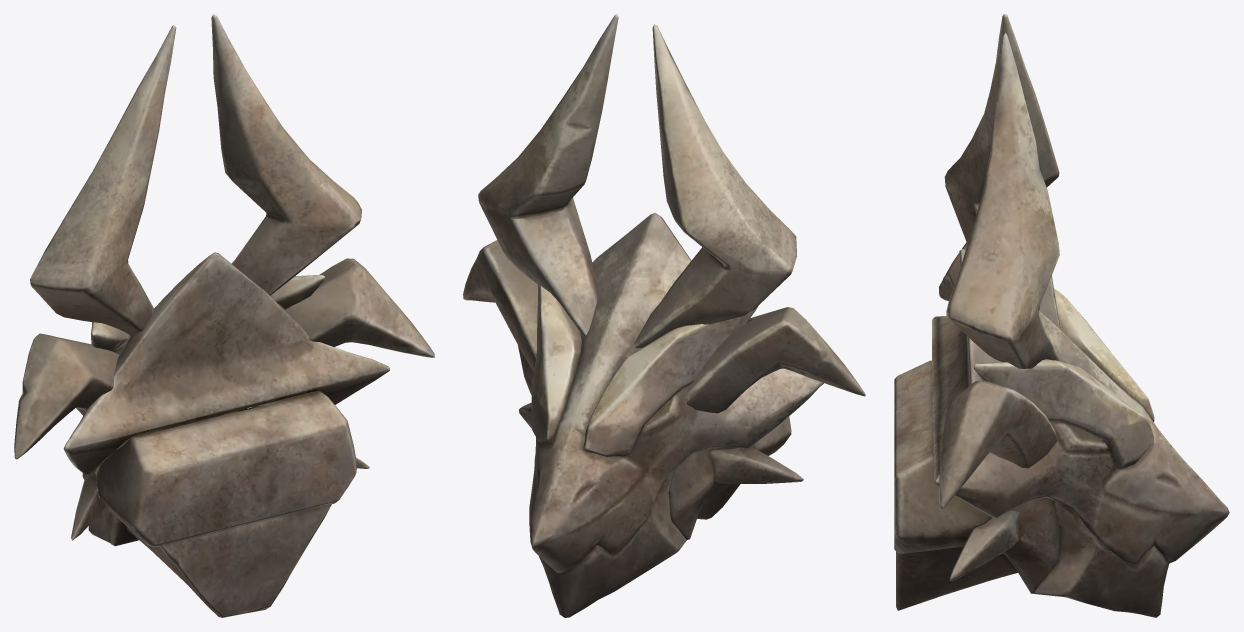
3 renders of one model, left to right at view 1: azimuth 30°, elevation 25°; view 2: azimuth 150°, elevation 25°; view 3: azimuth 270°, elevation 25°, orthographic. The views are drawn at different scales.
Parts seen in each view (by area): view 1: SM_Dec_Dragonkin_Wall_Face_01v6_LOD0; view 2: SM_Dec_Dragonkin_Wall_Face_01v6_LOD0; view 3: SM_Dec_Dragonkin_Wall_Face_01v6_LOD0.
Part boxes in pixels (bbox=[...]): SM_Dec_Dragonkin_Wall_Face_01v6_LOD0: bbox=[14, 14, 434, 617]; SM_Dec_Dragonkin_Wall_Face_01v6_LOD0: bbox=[463, 14, 865, 617]; SM_Dec_Dragonkin_Wall_Face_01v6_LOD0: bbox=[894, 14, 1229, 617].
Size of the model in its own units: 1.42 by 1.86 by 0.9503.
Materials: 1 (1 with a texture image).
